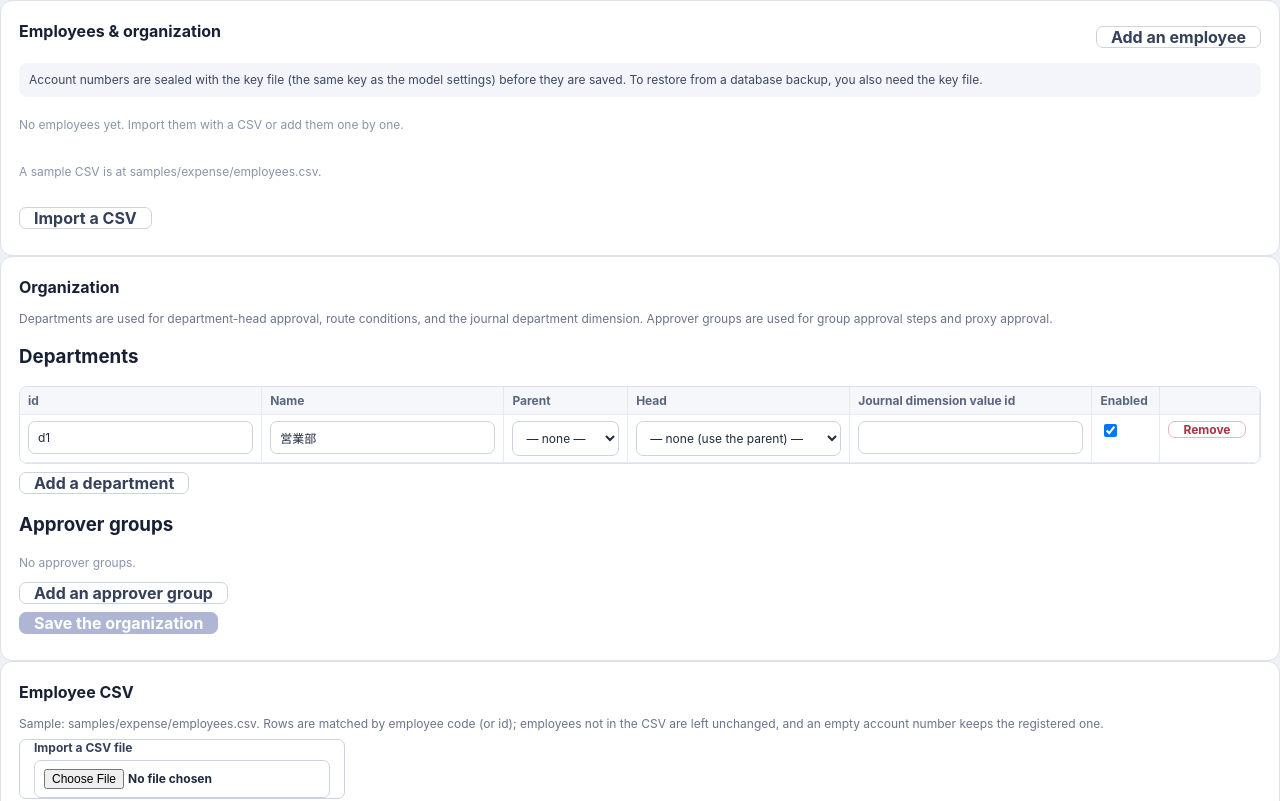
EmployeesLedger › 異常: 画面で分かる誤り（氏名なし）は送らずにその欄へフォーカスする
Click the button "Add an employee" at [1178, 37], box [1096,26,1261,48]
(page scrolled)
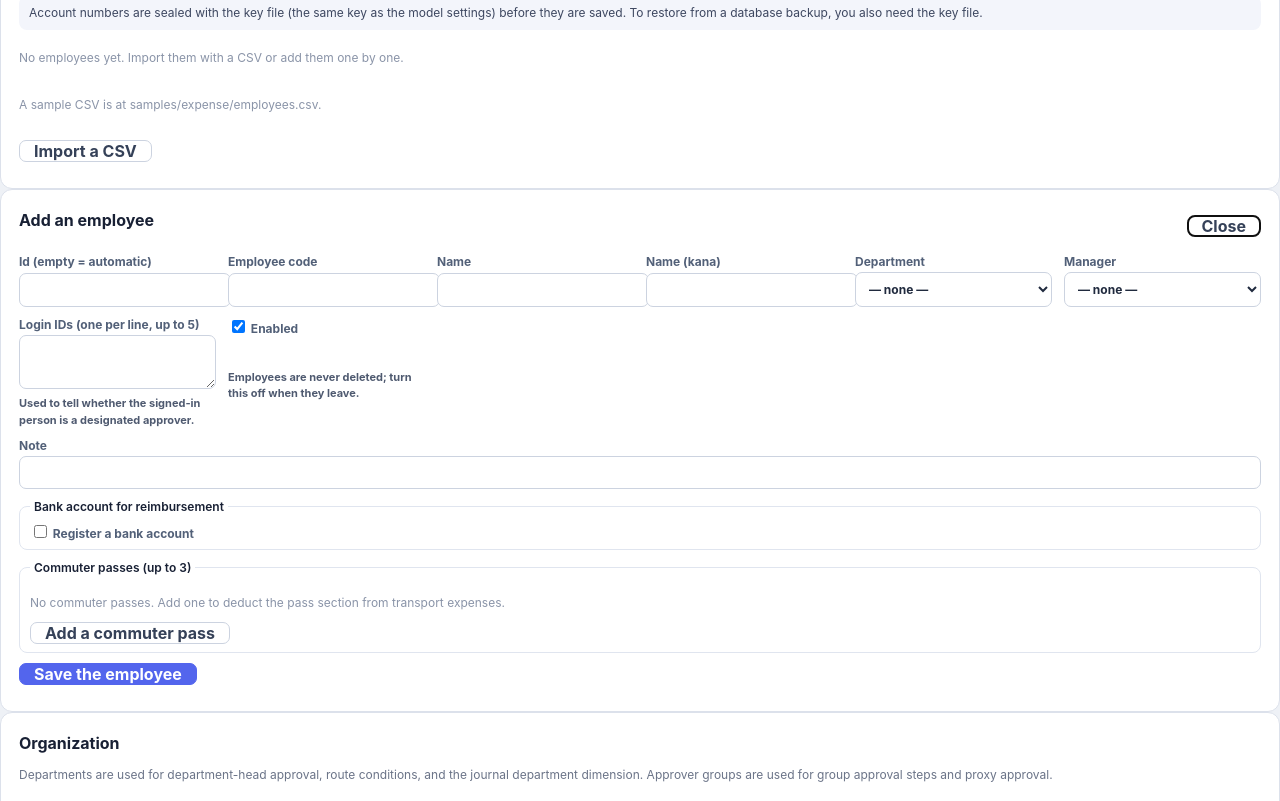
Click the button "Save the employee" at [108, 674], box [19,663,197,685]
(page scrolled)
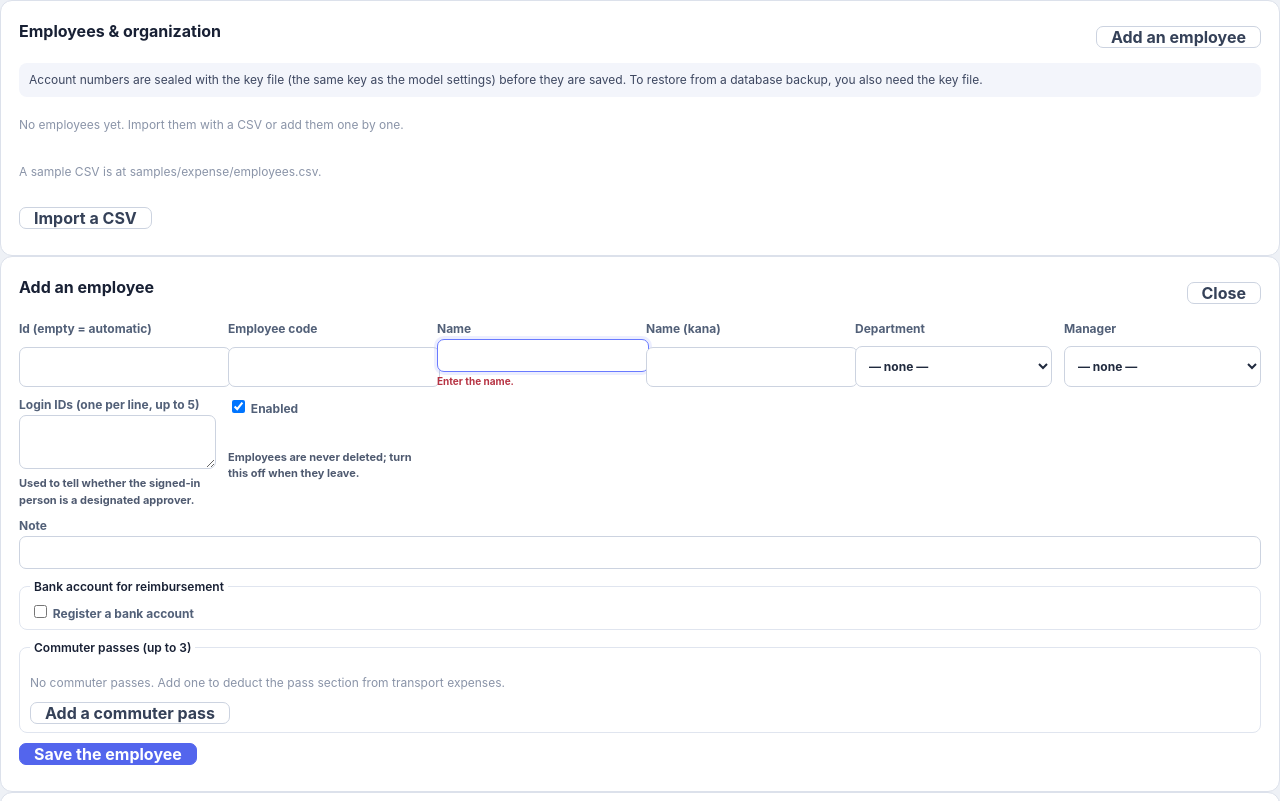
expect the text "Enter the name." is shown: met, box [437,375,514,387]
